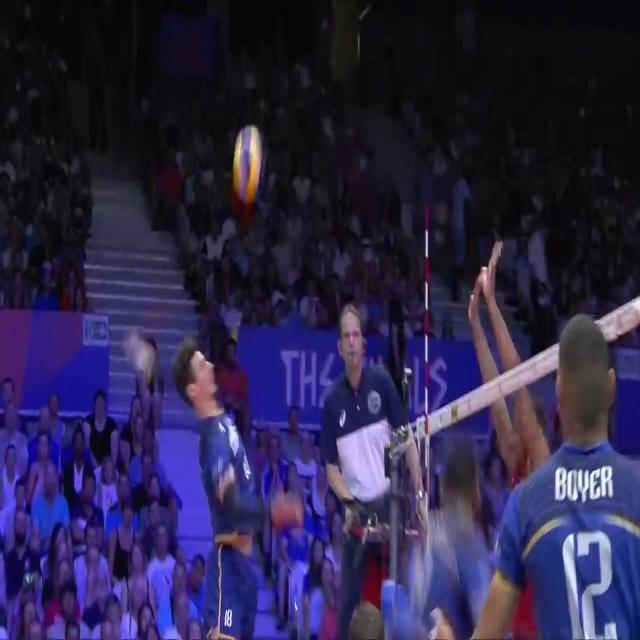volleyball: (233, 127, 266, 200)
